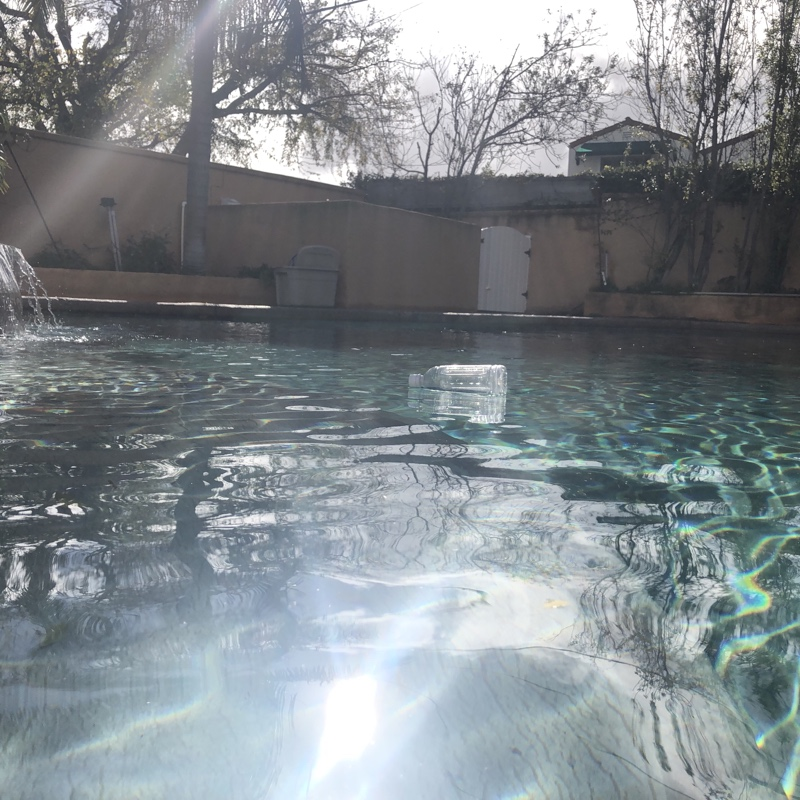Plastic Bottle: (402, 360, 511, 400)
